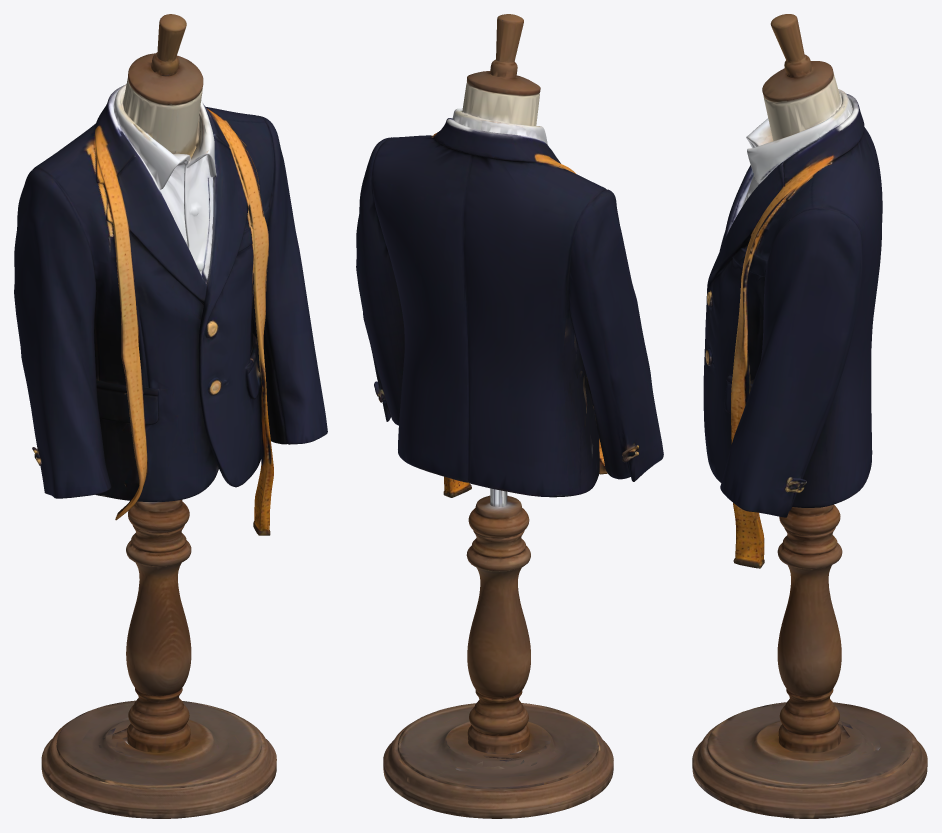
File: atelie.glb
3 views of the same model, side by side, from view 1: azimuth 30°, elevation 25°; view 2: azimuth 150°, elevation 25°; view 3: azimuth 270°, elevation 25° (orthographic).
Visible parts, largest first — view 1: node_0; view 2: node_0; view 3: node_0.
Boxes of the visible parts, box(x1,y1,x2,y2) form: node_0: box(14, 14, 327, 818); node_0: box(356, 14, 663, 818); node_0: box(692, 14, 927, 818).
Bounding box in the file's own units: 0.432 × 1.16 × 0.3269.
Materials: 1 (1 with a texture image).
